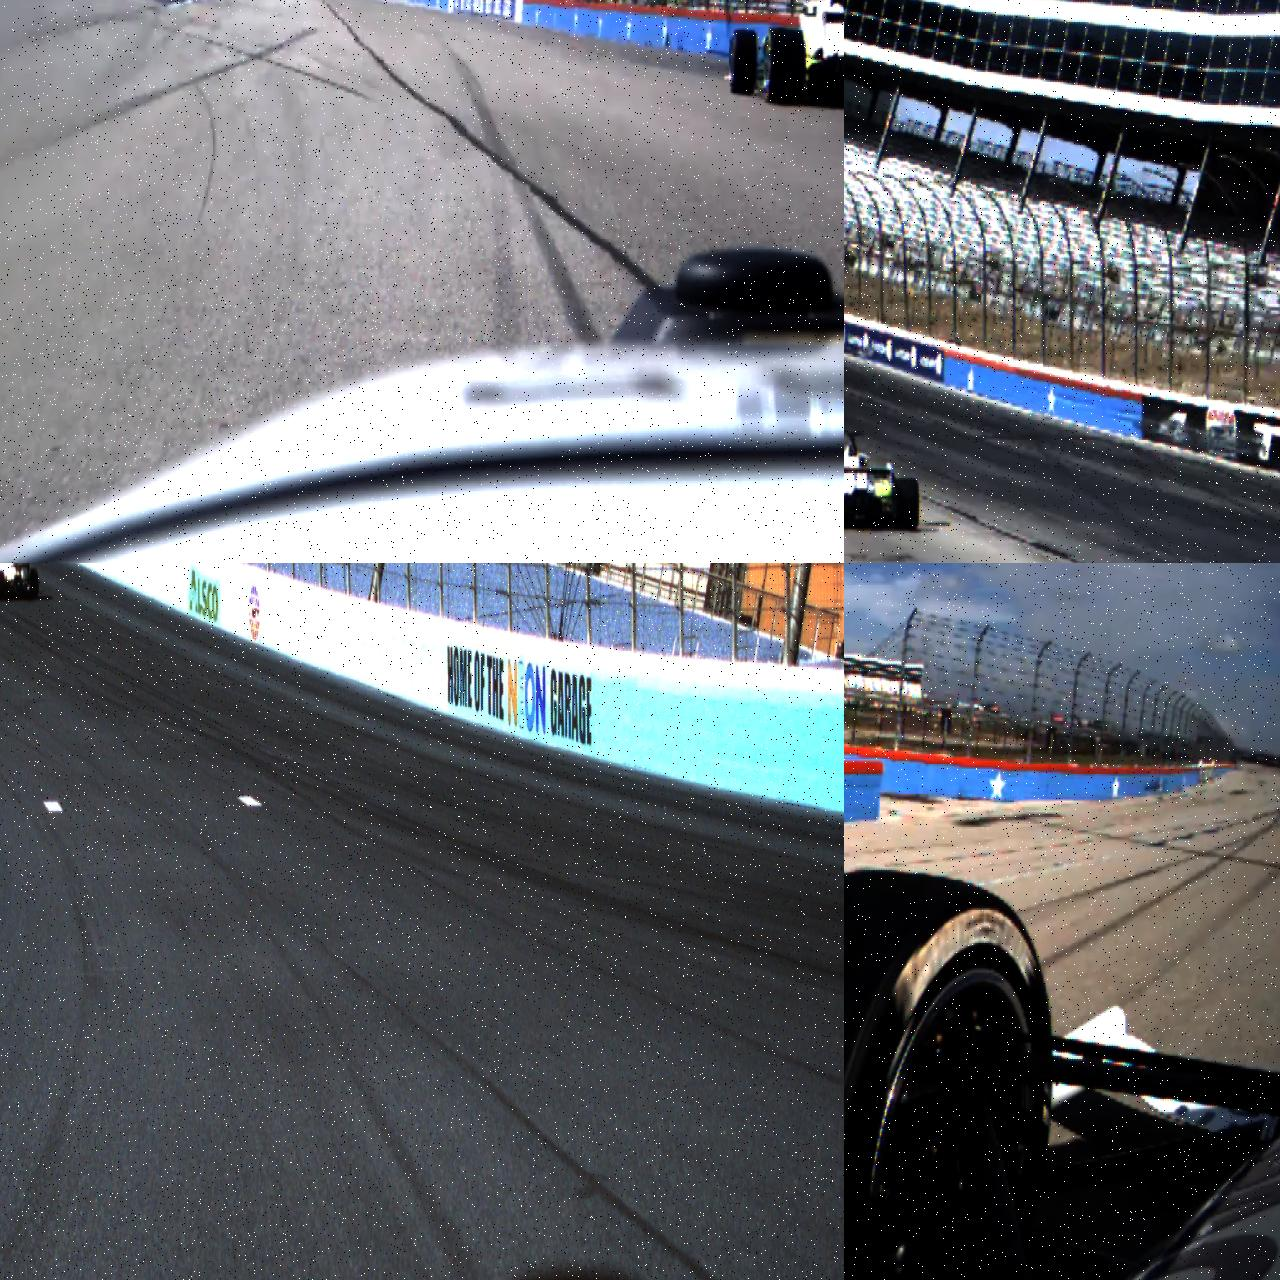AV: (724, 0, 844, 114), (844, 429, 920, 531), (0, 563, 39, 600)
Wheel: (844, 870, 1051, 1280), (768, 27, 804, 105), (731, 29, 756, 95), (896, 478, 919, 531), (29, 567, 39, 599), (0, 570, 4, 600)
